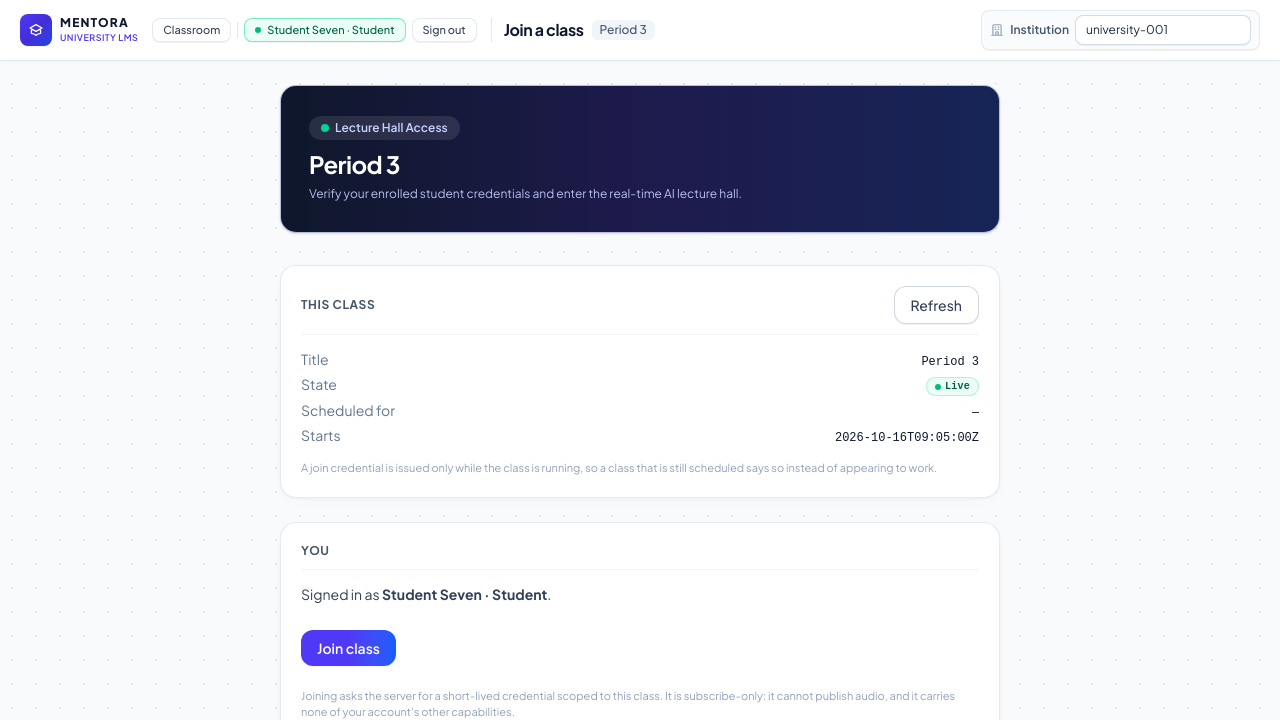
JoinClassPage › reports a class that has not started as not ready, not as a failure
This screenshot has width=1280, height=720.
Click the button "Join class".
click(348, 648)  # box [301,630,396,666]
(page scrolled)
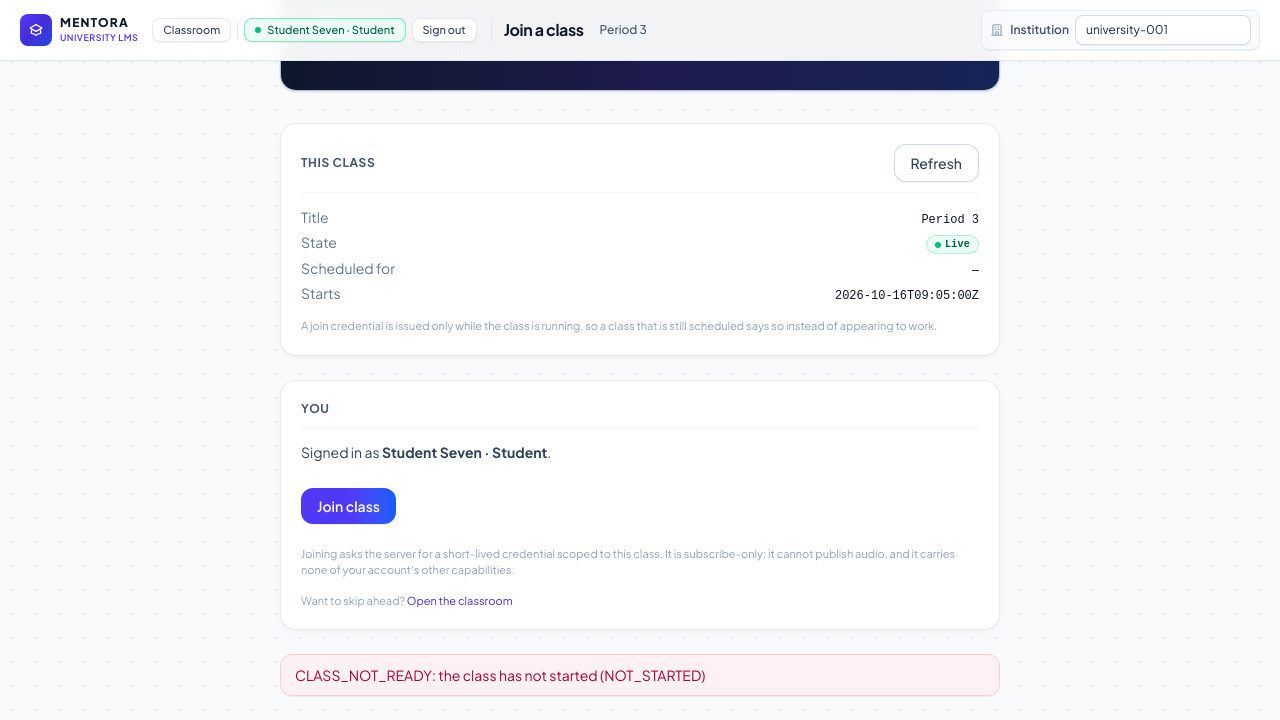
Expected: the text "CLASS_NOT_READY: the class has not started (NOT_STARTED)" is shown, [295,666,705,684]
